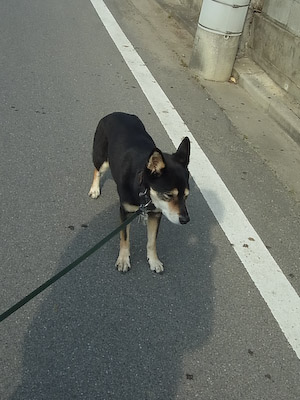kopek: (79, 103, 218, 282)
